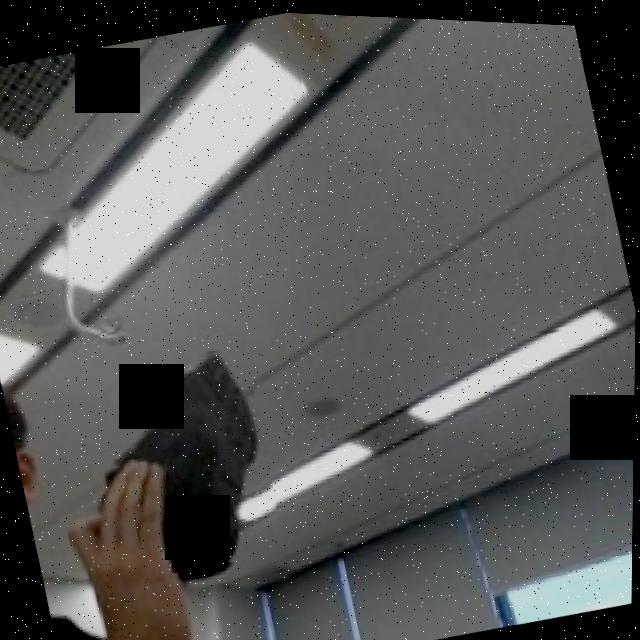shoe: (101, 335, 294, 581)
